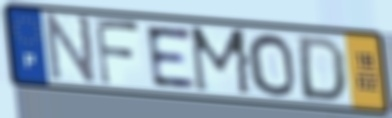D: (297, 34, 348, 104)
E: (143, 25, 200, 90)
F: (92, 15, 144, 89)
M: (187, 24, 255, 99)
N: (44, 11, 98, 89)
O: (244, 31, 298, 99)
